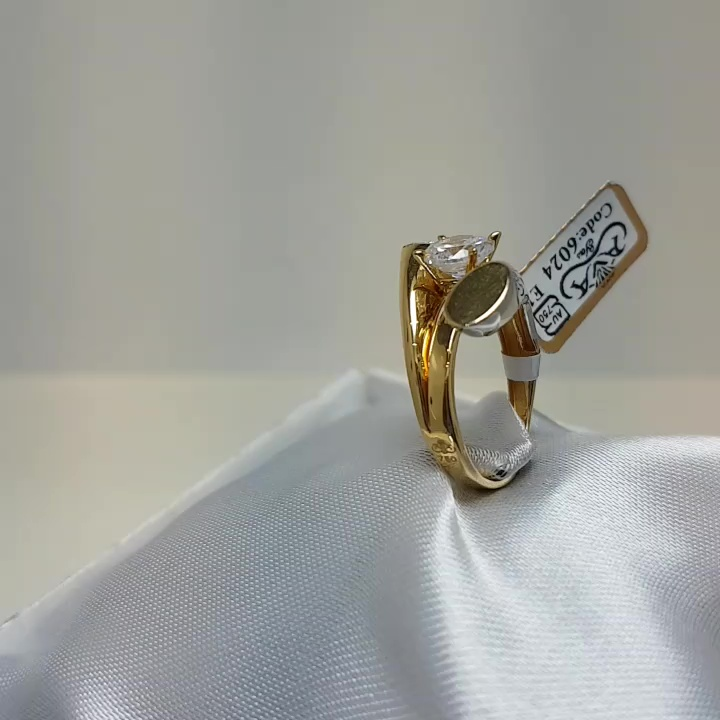Ring 7: (380, 227, 561, 495)
